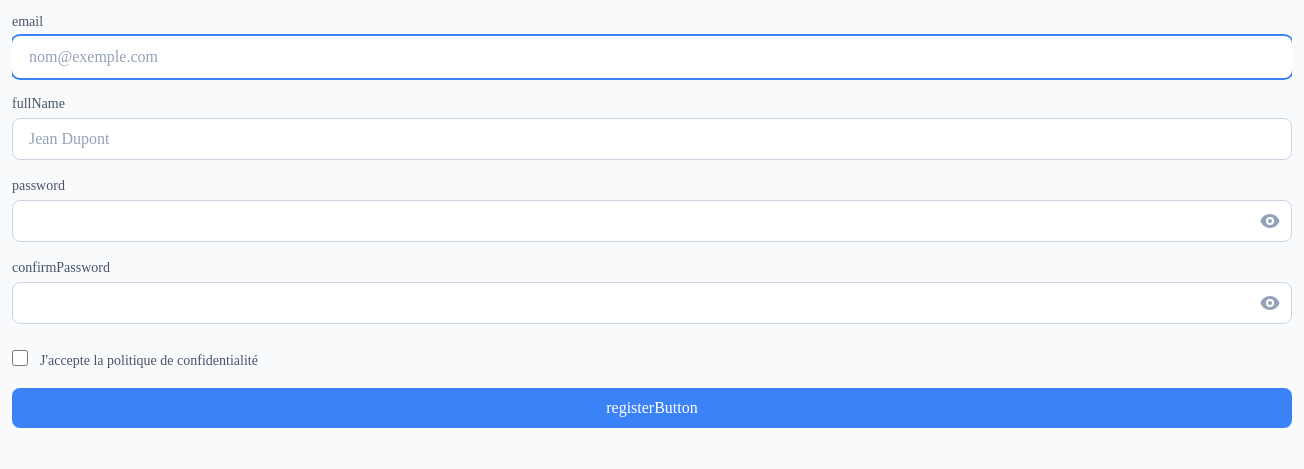
Test case: RegisterForm › shows password strength indicator when typing password
This screenshot has width=1304, height=469.
In the password field labelled "password": (652, 221) [12, 200, 1292, 242], type "weak"
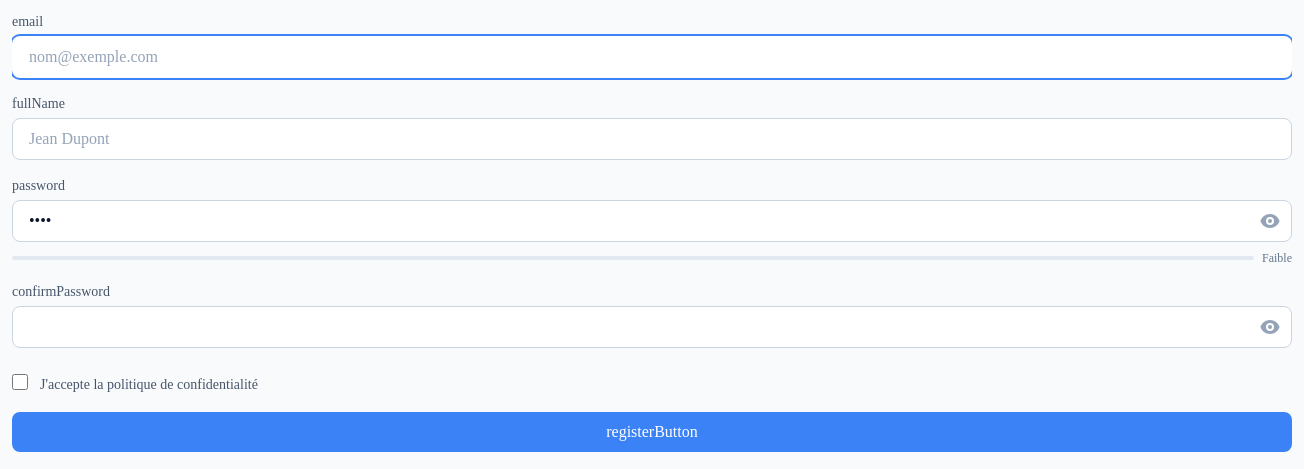
Expected: the text "Faible" is shown, [1262, 250, 1292, 266]
